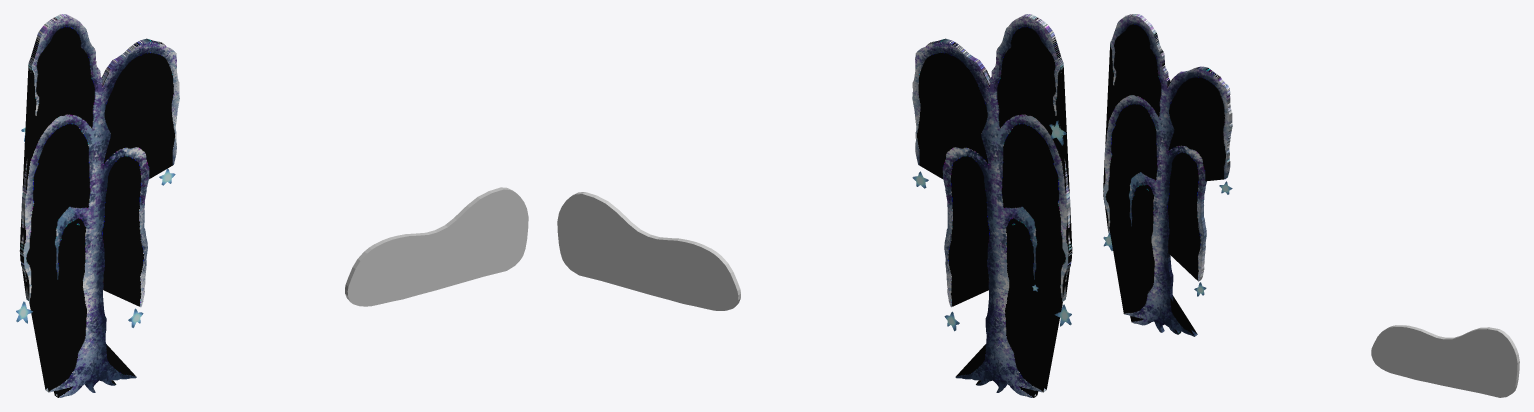
File: startree1.fbx
The picture shows the model from 3 angles, left to right: view 1: azimuth 30°, elevation 25°; view 2: azimuth 150°, elevation 25°; view 3: azimuth 330°, elevation 25°; orthographic projection. The views are drawn at different scales.
Visible parts, largest first — view 1: tree1, stone3snowyalt, treestars; view 2: tree1, stone3snowyalt, treestars; view 3: tree1, stone3snowyalt.
Boxes of the visible parts, bbox=[...] form: tree1: bbox=[19, 14, 179, 397]; stone3snowyalt: bbox=[345, 187, 528, 306]; treestars: bbox=[16, 127, 175, 327]; tree1: bbox=[912, 14, 1072, 397]; stone3snowyalt: bbox=[557, 192, 740, 310]; treestars: bbox=[912, 120, 1071, 331]; tree1: bbox=[1103, 14, 1232, 336]; stone3snowyalt: bbox=[1371, 325, 1519, 397].
Bounding box in the file's own units: 13544 × 9677 × 281.
